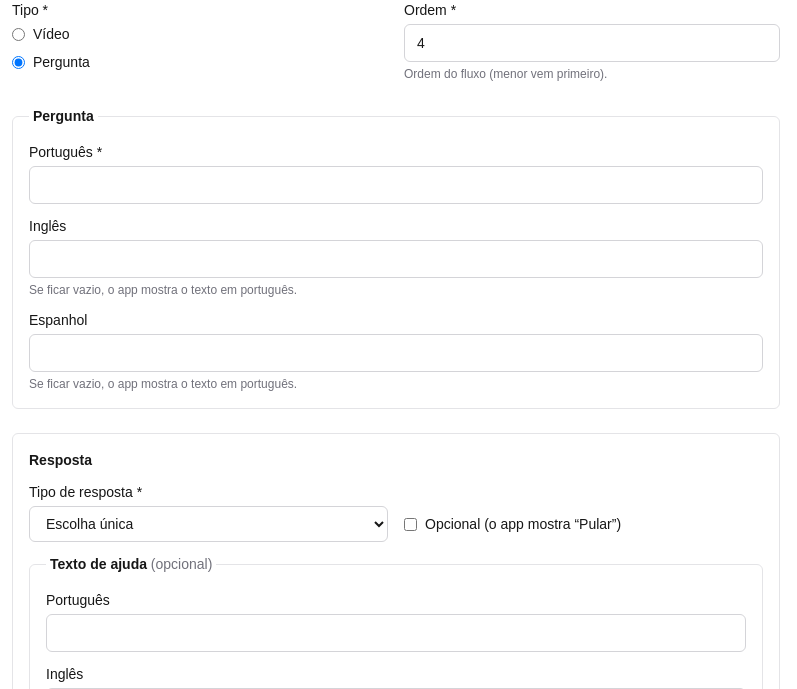
Test: StepForm answer types (v2) › open text hides the options and shows limit and placeholder
This screenshot has width=797, height=689.
Step 1. Select "Resposta aberta" in the dropdown labelled "Tipo de resposta *" → (208, 524), box [29,506,388,542]
(page scrolled)
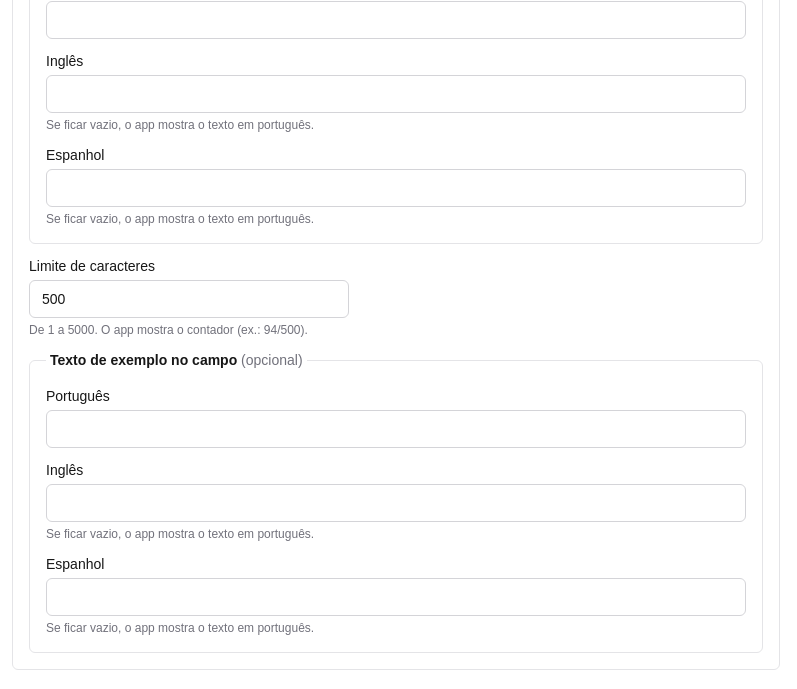
Expected: the number field labelled "Limite de caracteres" holds "500", [29,280,349,318]
Expected: the text "Texto de exemplo no campo" is shown, [50,352,237,368]
